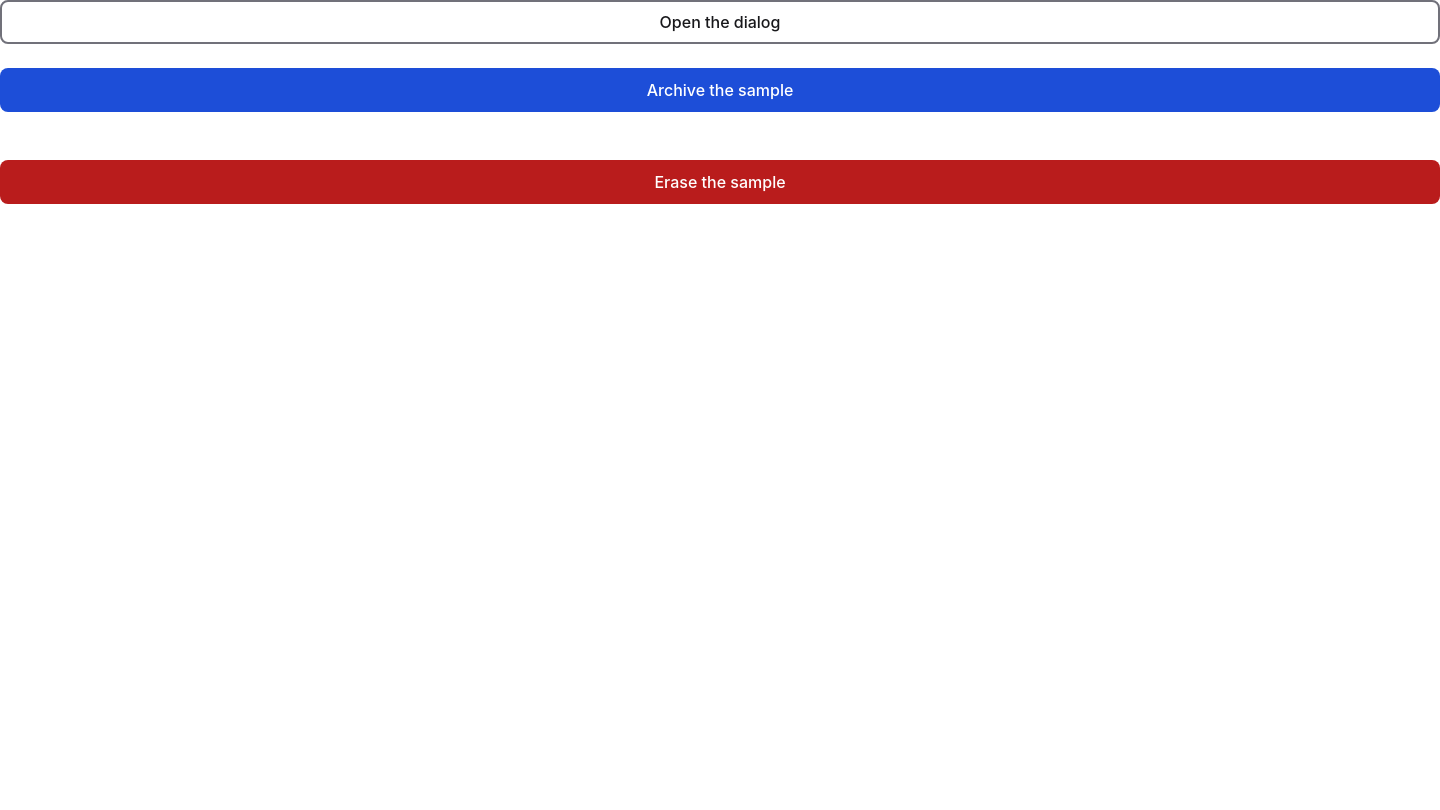
Scenario: DialogSamples › runs the sample action once its confirmation is agreed to
The image size is (1440, 810).
Click the button "Archive the sample".
click(720, 90)  # box x1=0 y1=68 x2=1439 y2=112
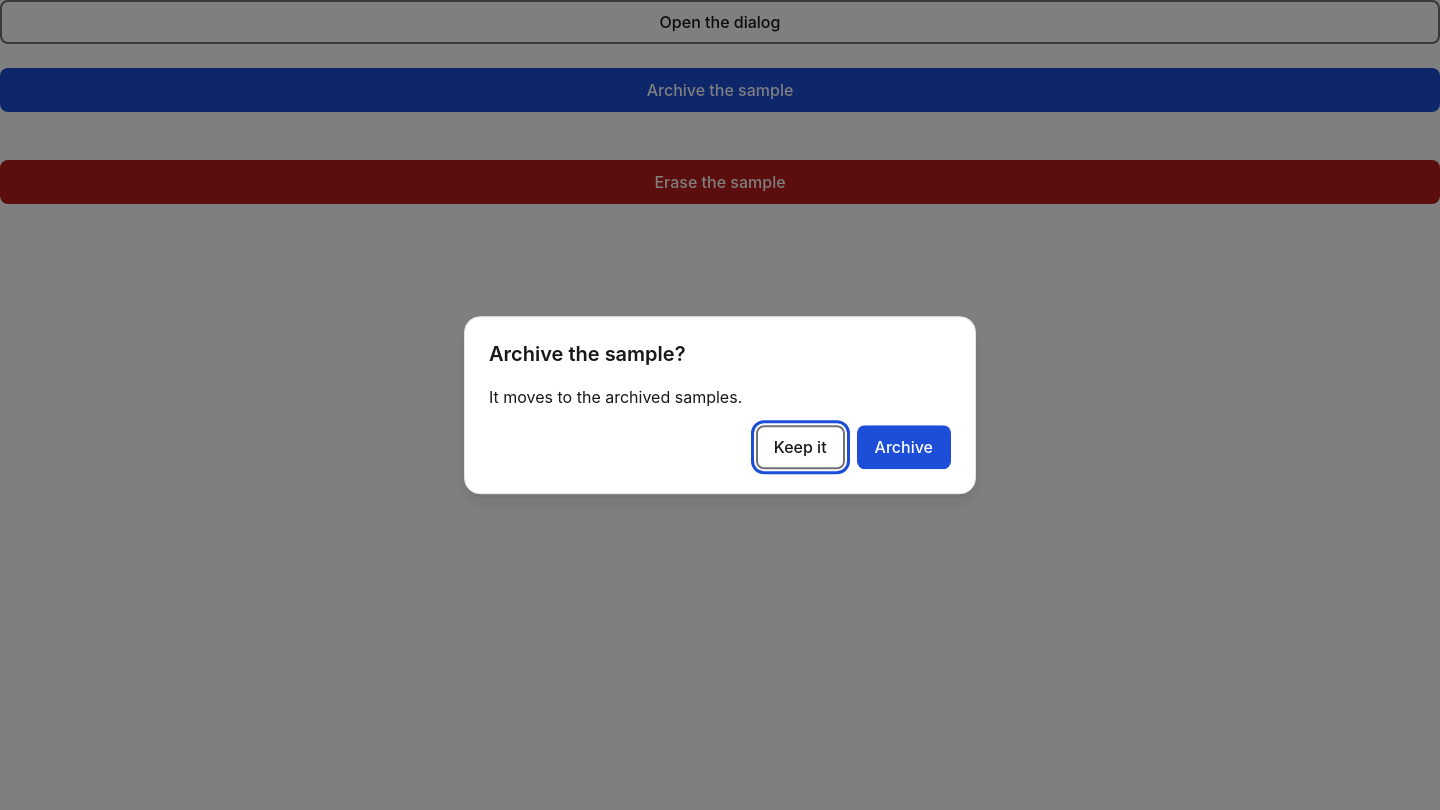
Click the button "Archive".
click(904, 447)  # box x1=857 y1=425 x2=951 y2=469
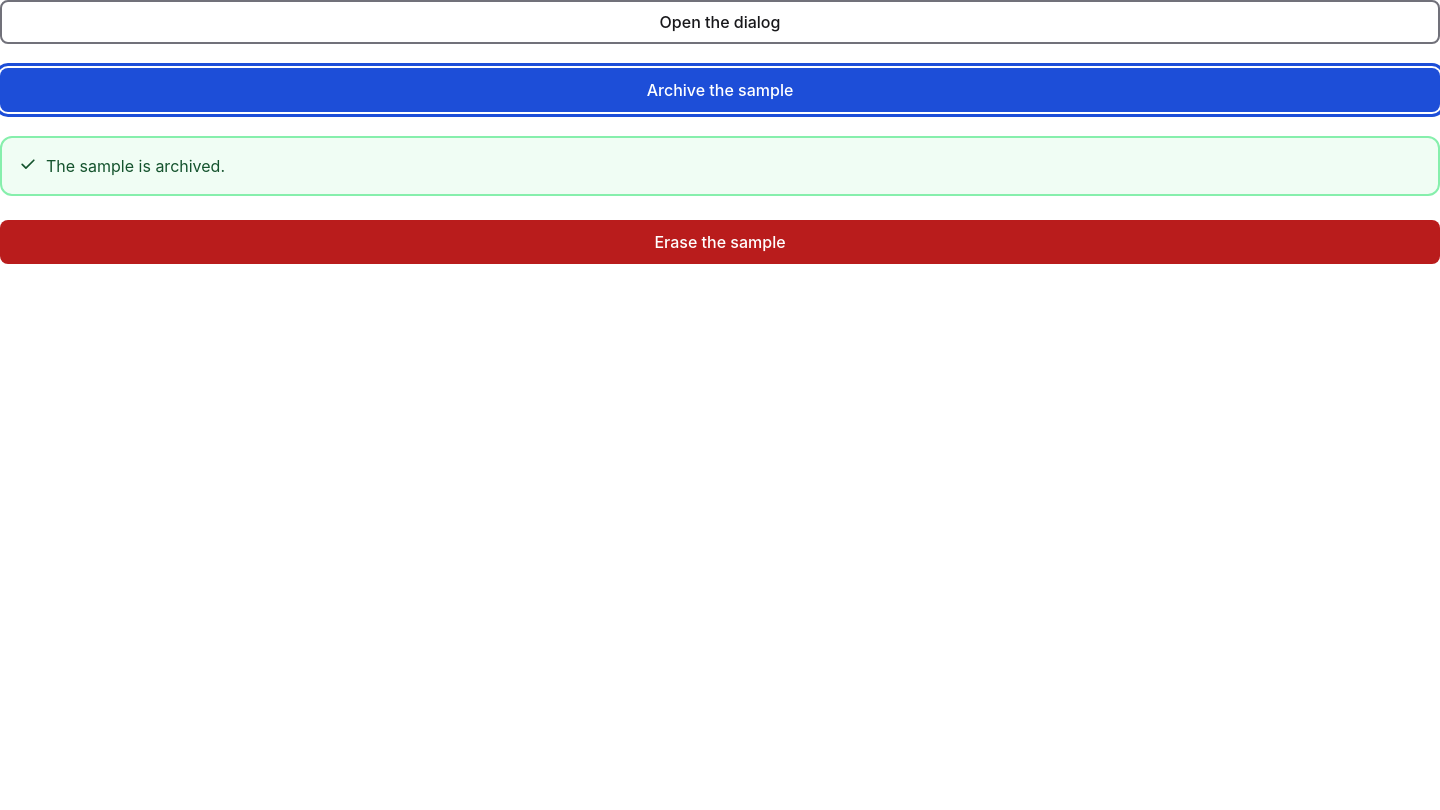
Check: the text "The sample is archived." is shown, box x1=46 y1=154 x2=225 y2=178
